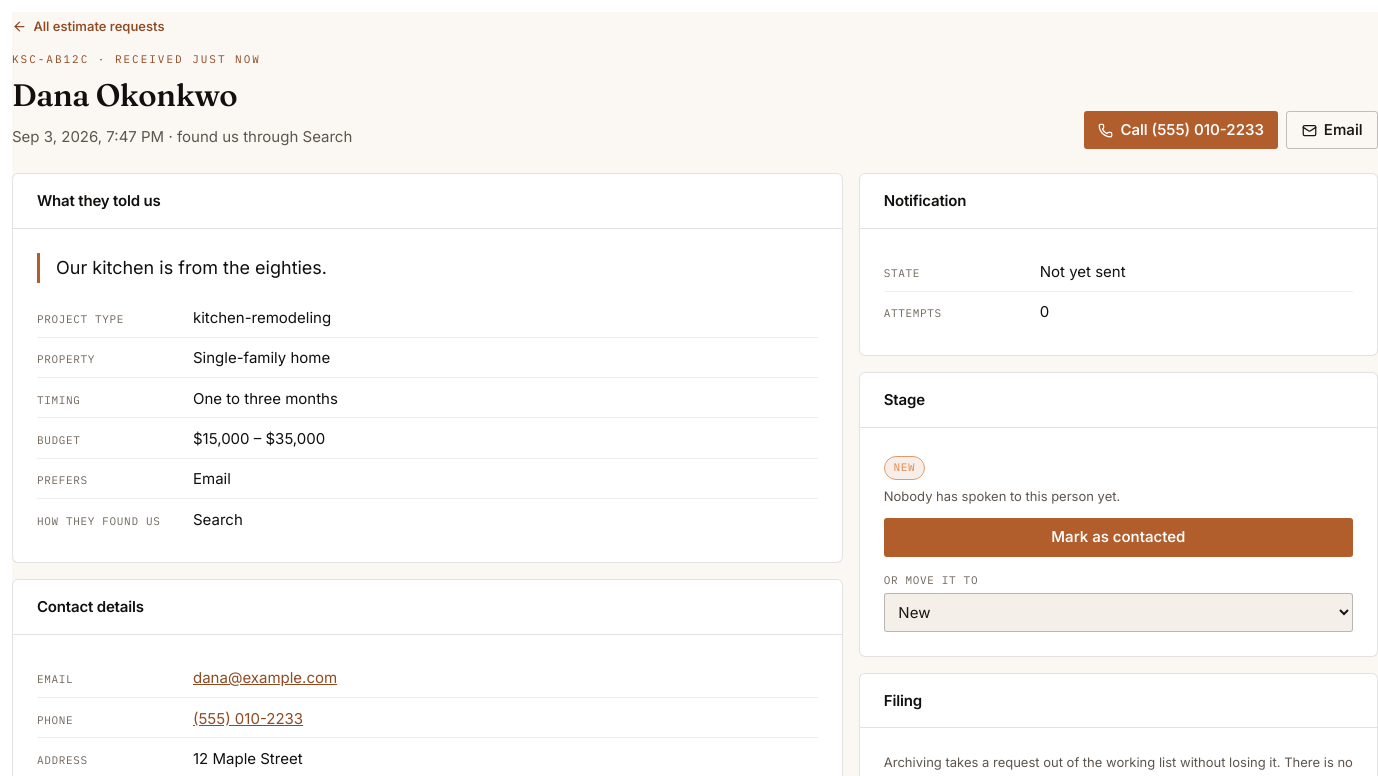
Scenario: moving a lead along › explains a conflict instead of showing a raw failure
Click the button "Mark as contacted": click(1118, 537) [884,518,1353,556]
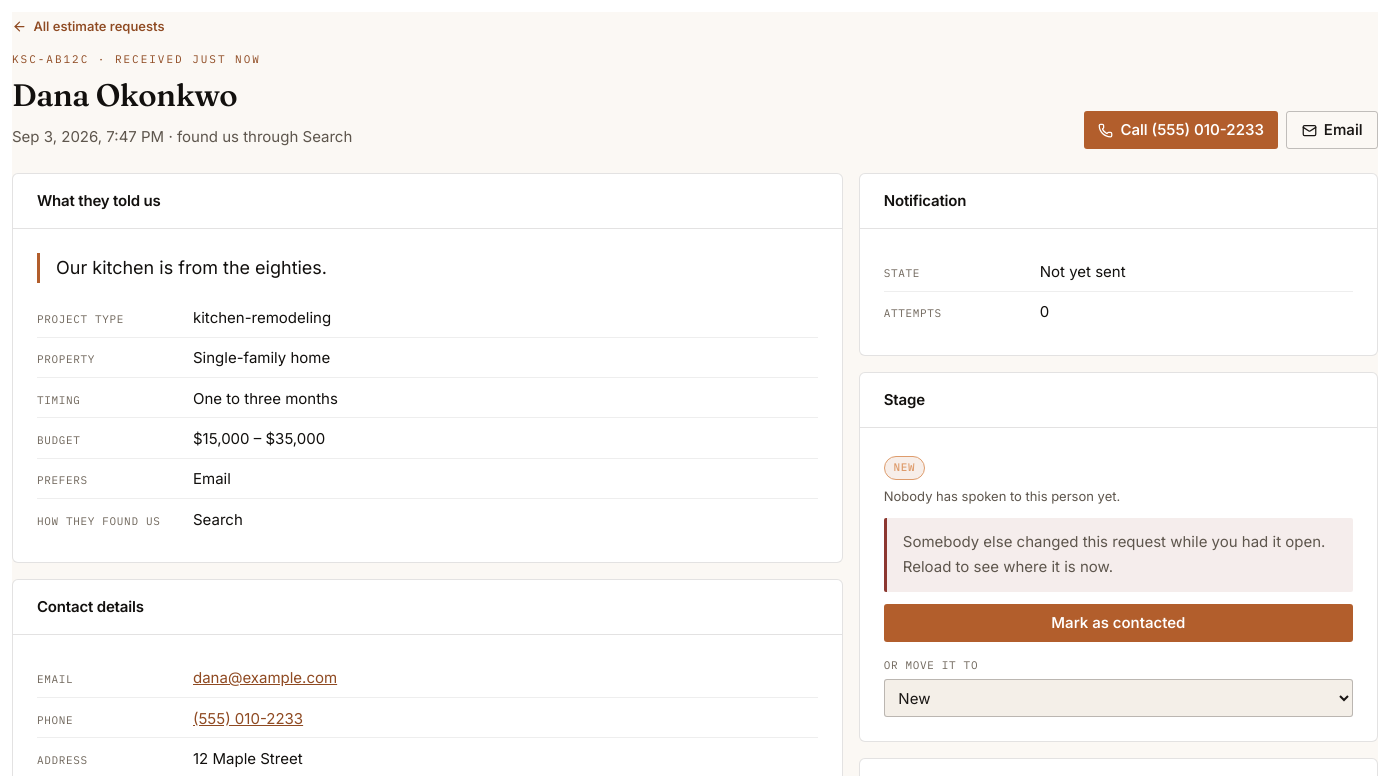
Now the text "Somebody else changed this request" is shown, box [903,532,1325,576]
